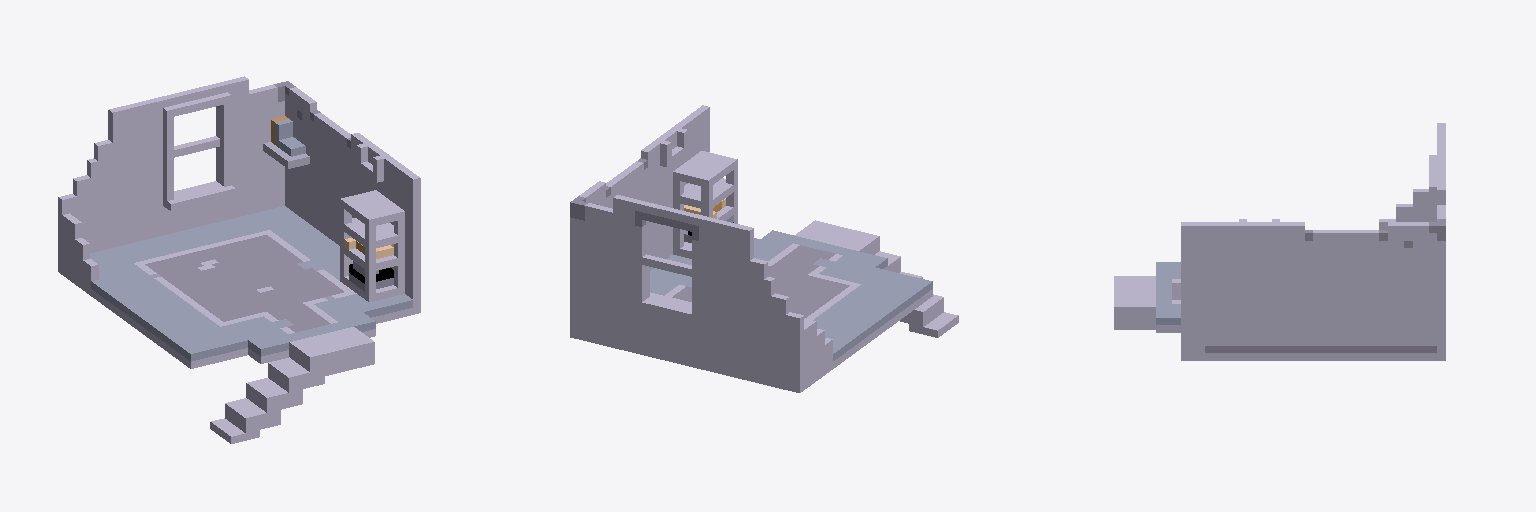
The picture shows the model from 3 angles: view 1: azimuth 30°, elevation 25°; view 2: azimuth 150°, elevation 25°; view 3: azimuth 270°, elevation 25°; orthographic projection.
Visible parts, largest first — view 1: object 1; view 2: object 1; view 3: object 1.
Part boxes in pixels (x1,y1,x2,y2): object 1: (58,76,420,443); object 1: (570,105,958,392); object 1: (1114,123,1445,360).
Size of the model in its own units: 3.2 by 2.7 by 4.
Materials: 1 (1 with a texture image).